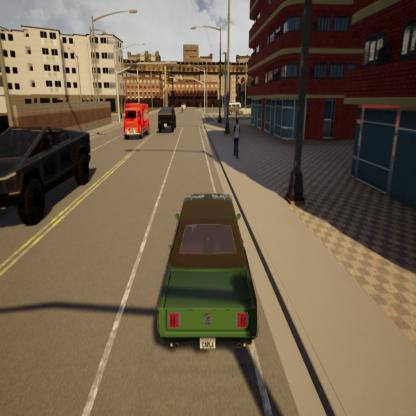Cars: (149, 184, 265, 358), (0, 117, 97, 231), (122, 101, 152, 142), (156, 105, 179, 136), (223, 96, 244, 117), (231, 102, 250, 118), (180, 100, 188, 112)
Pedestrian: (231, 116, 242, 165)
